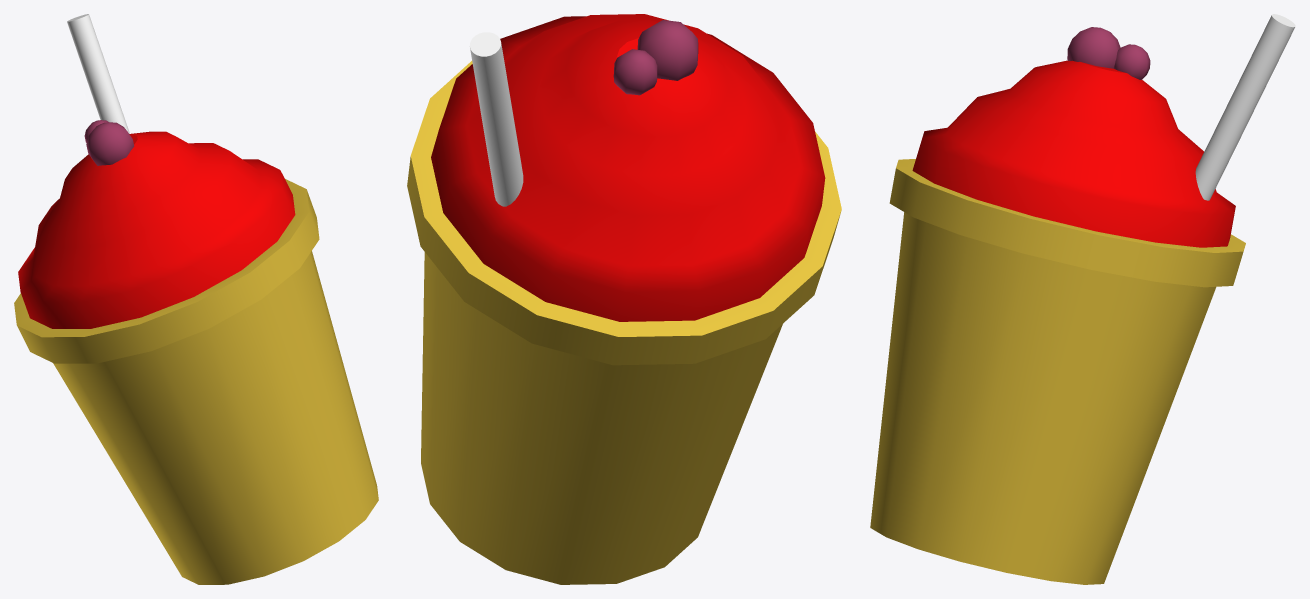
Rendered from IceCream.fbx.
The picture shows the model from 3 angles, left to right: view 1: azimuth 30°, elevation 25°; view 2: azimuth 150°, elevation 25°; view 3: azimuth 270°, elevation 25°; orthographic projection. The views are drawn at different scales.
Visible parts, largest first — view 1: Object_23.001; view 2: Object_23.001; view 3: Object_23.001.
Part boxes in pixels (left/top/right/bottom): Object_23.001: left=14, top=14, right=378, bottom=584; Object_23.001: left=407, top=14, right=841, bottom=584; Object_23.001: left=870, top=14, right=1295, bottom=584.
Bounding box in the file's own units: 195 × 293 × 209.
